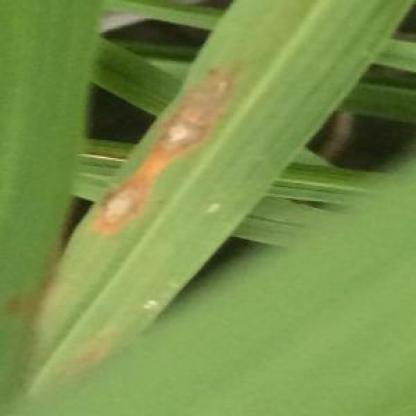Rice blast: (73, 70, 248, 248)
